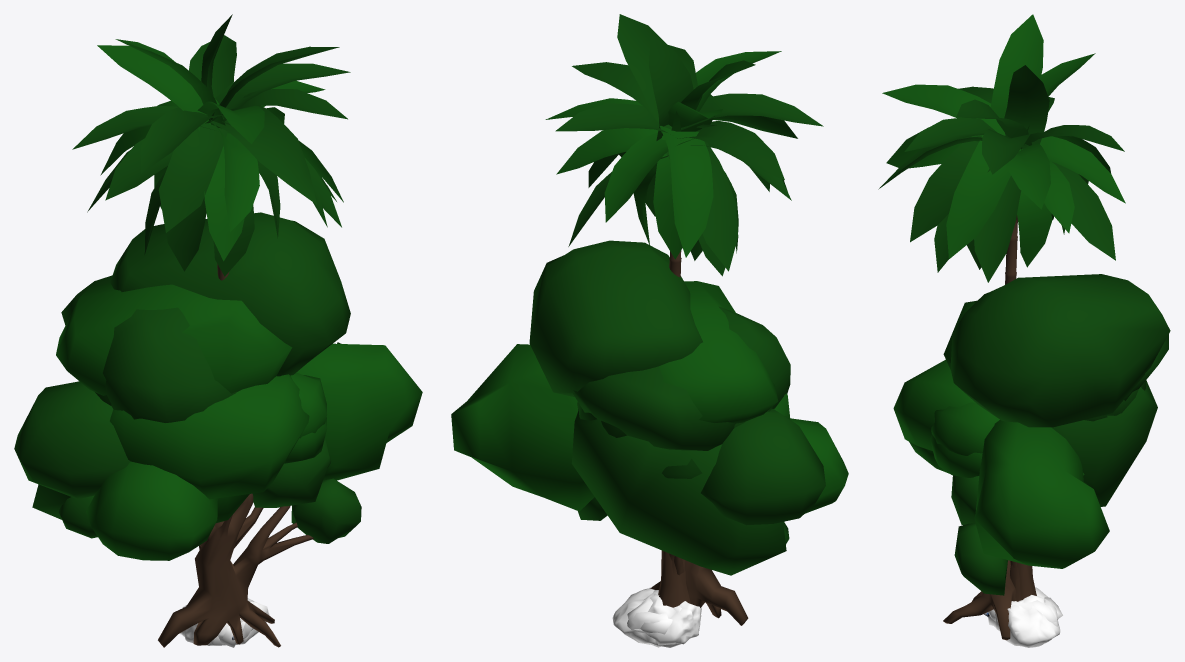
Rendered from models.glb.
3 views of the same model, side by side, from view 1: azimuth 30°, elevation 25°; view 2: azimuth 150°, elevation 25°; view 3: azimuth 270°, elevation 25° (orthographic). The views are drawn at different scales.
Parts seen in each view (by area): view 1: coconut tree, Tree-01, Tree-02, Tree-03, Tree-04; view 2: coconut tree, Tree-02, Tree-01, Tree-04, Tree-03, Rock 2, Rock 3; view 3: coconut tree, Tree-01, Tree-02, Tree-03, Tree-04, Rock 2, Rock 3.
Boxes of the visible parts, <box> form: coconut tree: <box>72,14,350,280</box>; Tree-01: <box>56,212,350,438</box>; Tree-02: <box>32,342,422,647</box>; Tree-03: <box>86,374,309,560</box>; Tree-04: <box>14,275,327,546</box>; coconut tree: <box>545,14,823,277</box>; Tree-02: <box>451,344,786,625</box>; Tree-01: <box>529,240,778,605</box>; Tree-04: <box>572,306,825,607</box>; Tree-03: <box>577,393,848,513</box>; Rock 2: <box>612,587,701,647</box>; Rock 3: <box>627,590,681,647</box>; coconut tree: <box>878,14,1125,568</box>; Tree-01: <box>931,274,1170,600</box>; Tree-02: <box>943,380,1157,640</box>; Tree-03: <box>893,359,1145,601</box>; Tree-04: <box>930,286,1168,600</box>; Rock 2: <box>988,587,1060,647</box>; Rock 3: <box>995,592,1057,630</box>.
Bounding box in the file's own units: 5.29 × 8.38 × 3.84.
8 materials, 3 textured.
